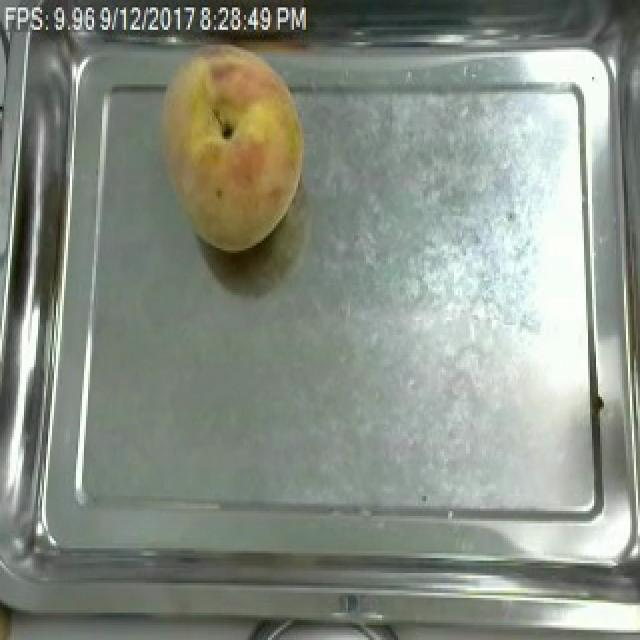Fruit: (150, 37, 314, 258)
